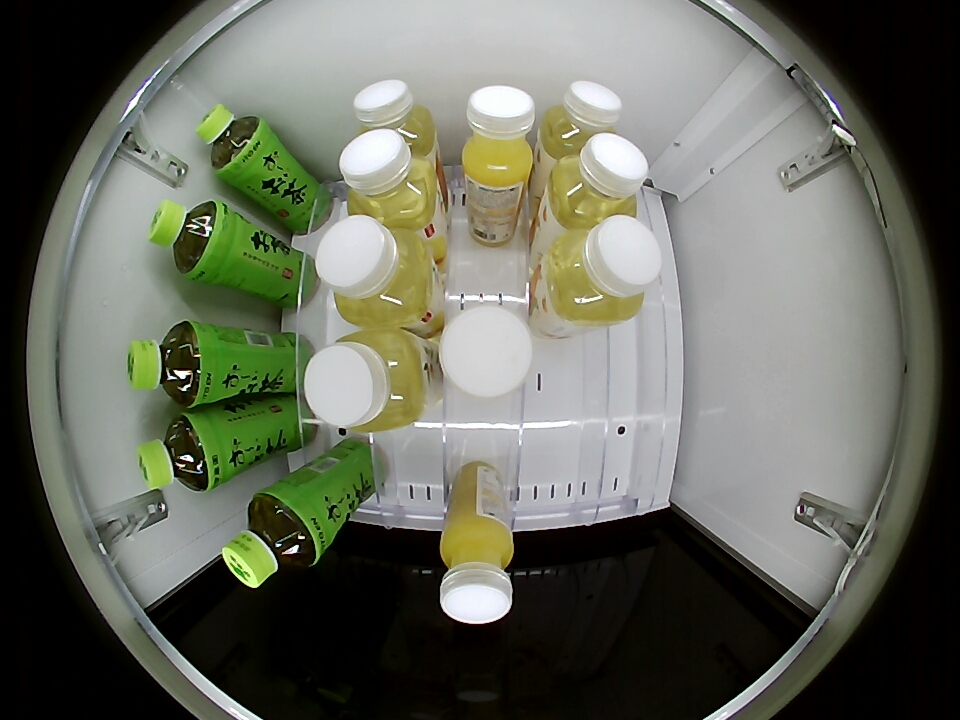chapai2: (540, 215, 661, 328), (316, 215, 435, 327), (305, 329, 426, 433), (340, 129, 442, 228), (545, 133, 647, 229), (541, 81, 623, 161), (354, 80, 437, 156)
nfc: (437, 516, 516, 623), (443, 305, 534, 396), (461, 85, 536, 186)
yitengyuan: (223, 488, 325, 588), (127, 320, 212, 407), (148, 198, 232, 280), (137, 412, 222, 493), (196, 104, 269, 179)
